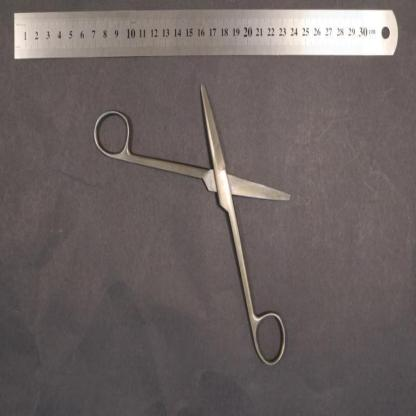Curved Mayo Scissors: (94, 83, 291, 367)
